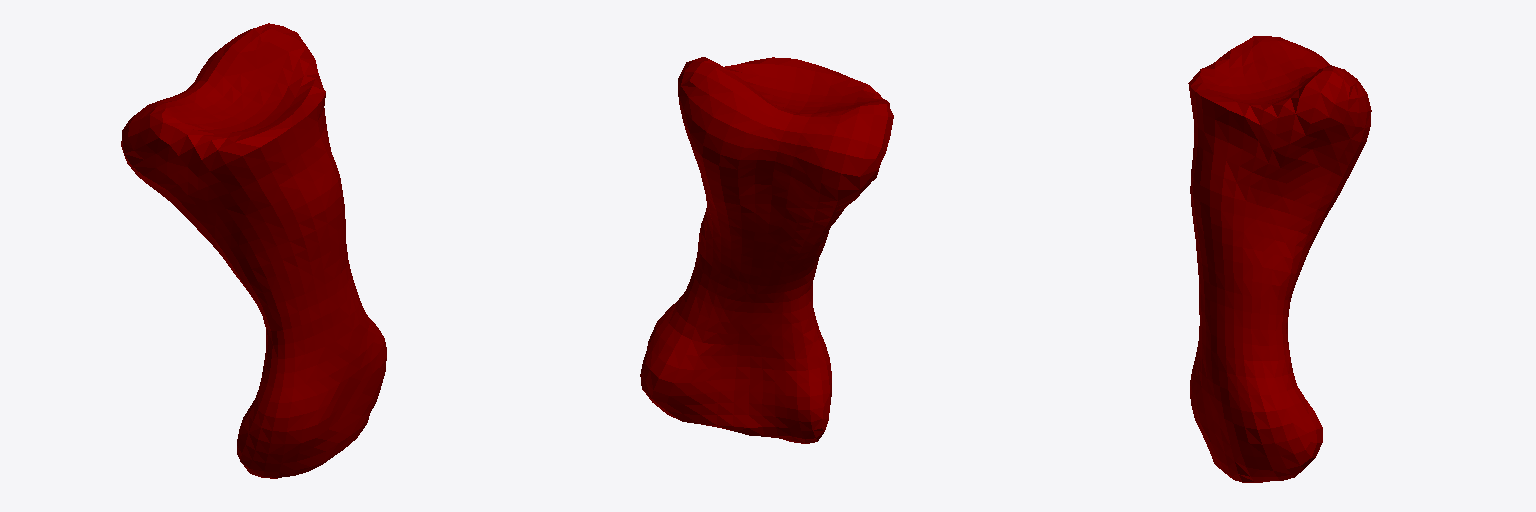
Rendered from ProximalPhalanx_4.obj.
3 renders of one model, left to right at view 1: azimuth 30°, elevation 25°; view 2: azimuth 150°, elevation 25°; view 3: azimuth 270°, elevation 25°, orthographic.
Parts seen in each view (by area): view 1: Object_0ProximalPhalanx_4; view 2: Object_0ProximalPhalanx_4; view 3: Object_0ProximalPhalanx_4.
Part boxes in pixels (x1,y1,x2,y2): Object_0ProximalPhalanx_4: (121, 23, 386, 478); Object_0ProximalPhalanx_4: (640, 57, 893, 443); Object_0ProximalPhalanx_4: (1188, 36, 1371, 482).
Bounding box in the file's own units: 18.25 × 29.41 × 11.97.